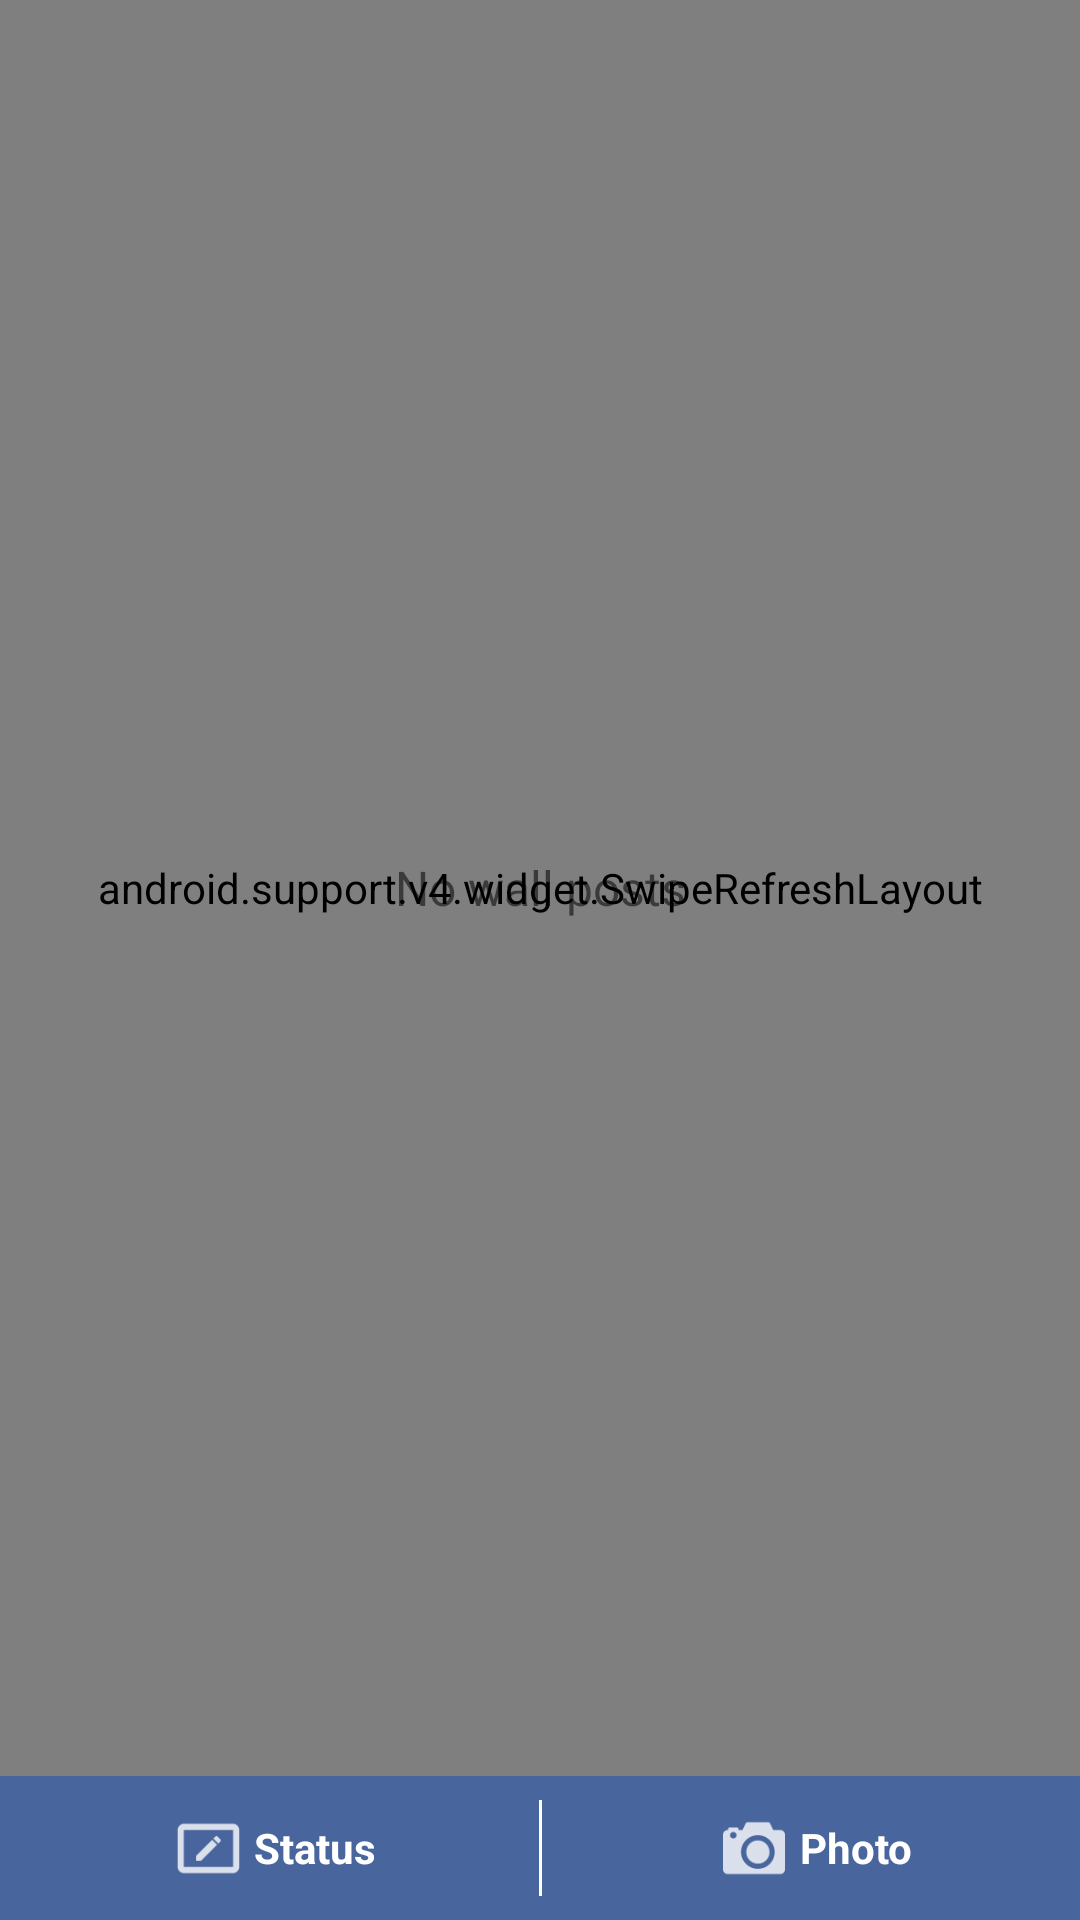

Screen size 1080*1920. Icon name, then its box in pixels as (x1, y1, x2, y2):
camera: (723, 1822, 785, 1875)
